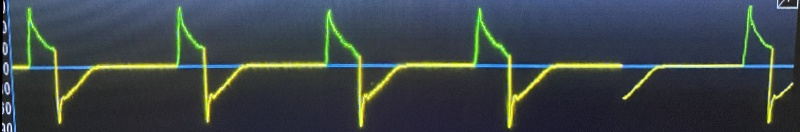normal_flow: (11, 0, 608, 132)
